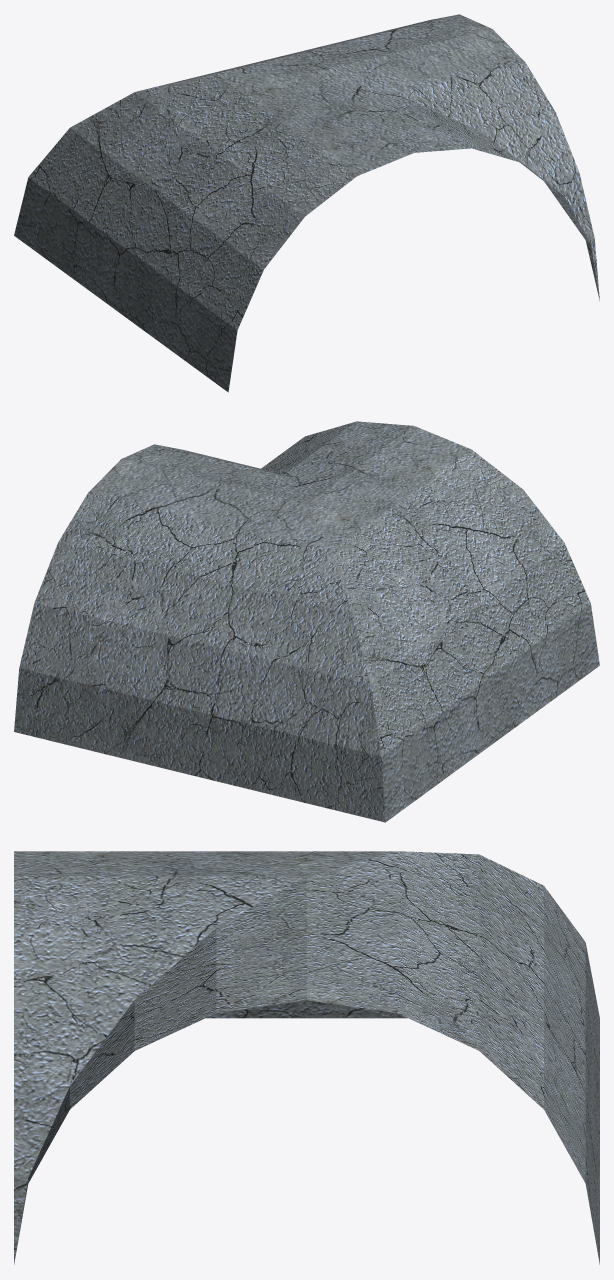
Rendered from ceiling_14.fbx.
The picture shows the model from 3 angles, top to bottom: view 1: azimuth 30°, elevation 25°; view 2: azimuth 150°, elevation 25°; view 3: azimuth 270°, elevation 25°; orthographic projection. The views are drawn at different scales.
Visible parts, largest first — view 1: ceiling_14; view 2: ceiling_14; view 3: ceiling_14.
Boxes of the visible parts, <box> form: ceiling_14: <box>14,14,599,392</box>; ceiling_14: <box>14,421,599,822</box>; ceiling_14: <box>14,851,599,1264</box>.
Size of the model in its own units: 100 by 50 by 100.
